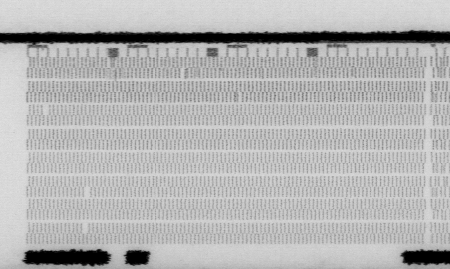Broken hole: (39, 105, 53, 117), (82, 187, 94, 199), (80, 223, 91, 236)
Oblique printing: (431, 139, 450, 224), (428, 57, 450, 81), (105, 56, 118, 71), (179, 66, 190, 81), (232, 91, 244, 103)
